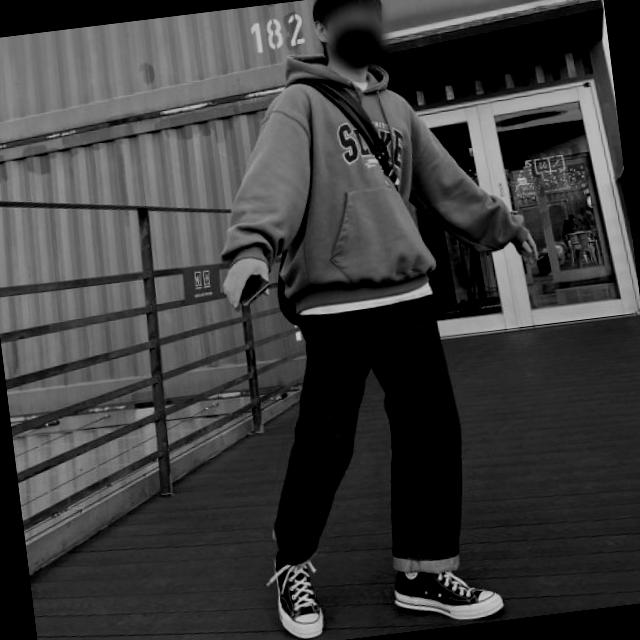denimpants: (252, 286, 484, 584)
hoodies: (196, 30, 534, 318)
